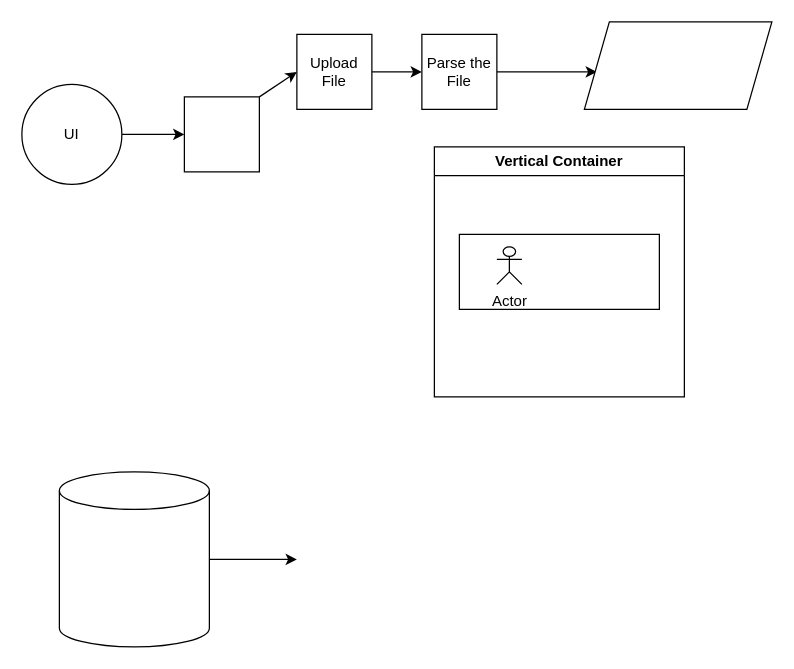
This 794x669 diagram has some shape labels left out. Each missing label, with the centre of its shape:
Chat Box: the point at 221,134
Database: the point at 133,559
Send the File to the Backend: the point at 677,65
